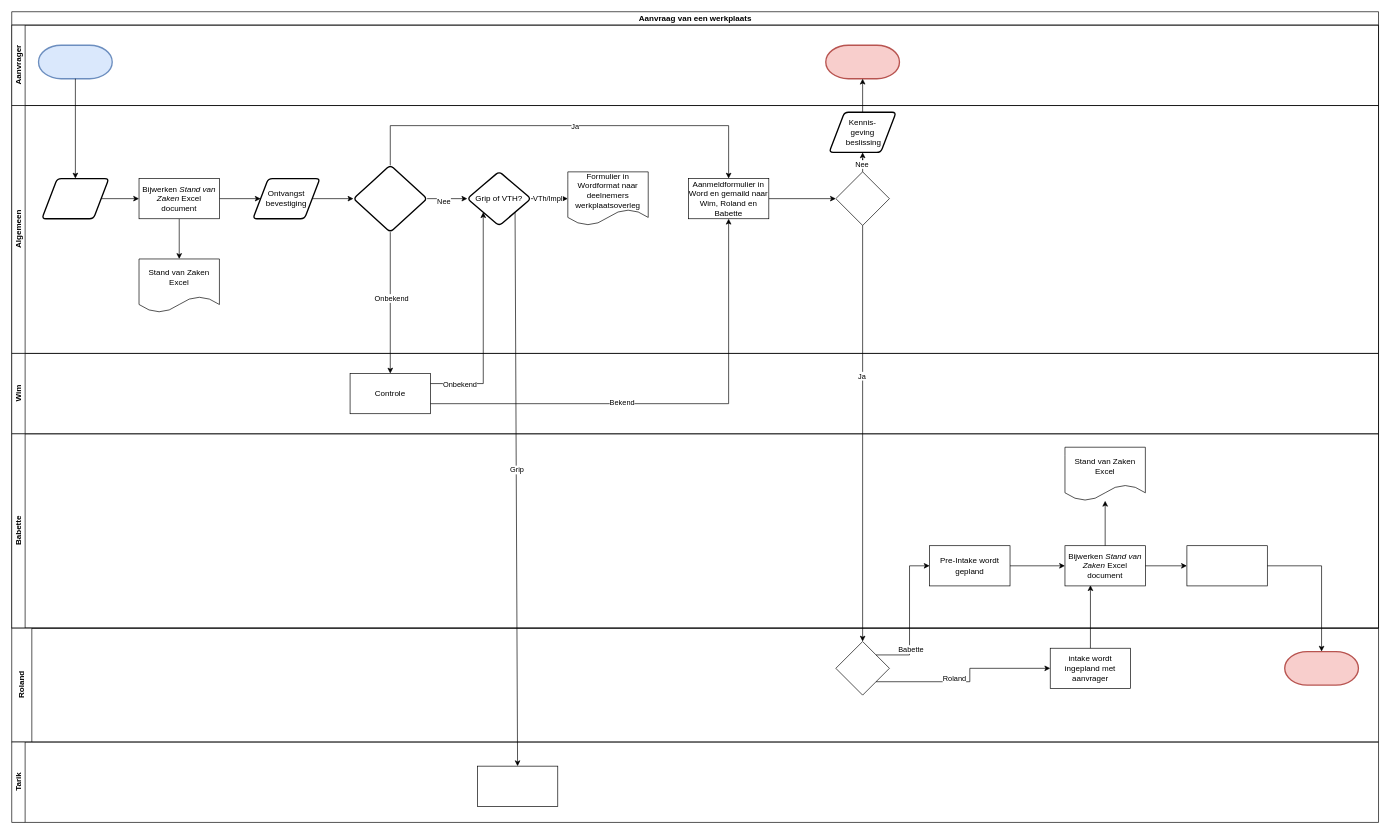
Image size: 1390x834. Some labels were removed from this diagram. The shapes that lost their labels are listed below. From the top down, each one's centre as x and y in pixels, then its label:
the point at 75,61: Invullen aanmeldformulier
the point at 862,61: Einde aanvraag - geen werkplaats
the point at 75,198: Aanmeld formulier gegevens
the point at 389,198: Juiste aanvraag formulier?
the point at 862,198: Door met werk- plaats?
the point at 1226,565: Organiseren + updates in werkplaatsoverleg
the point at 862,668: Wie doet 1e intake?
the point at 1321,668: Werkplaats
the point at 517,785: Doorzetten naar Wietske
